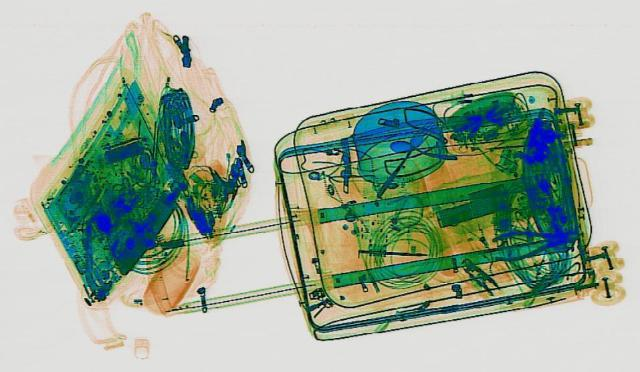Pliers: (481, 220, 587, 262)
